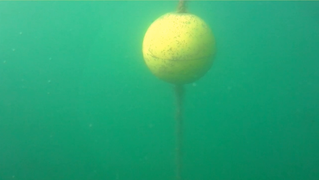buoy: (141, 12, 217, 84)
